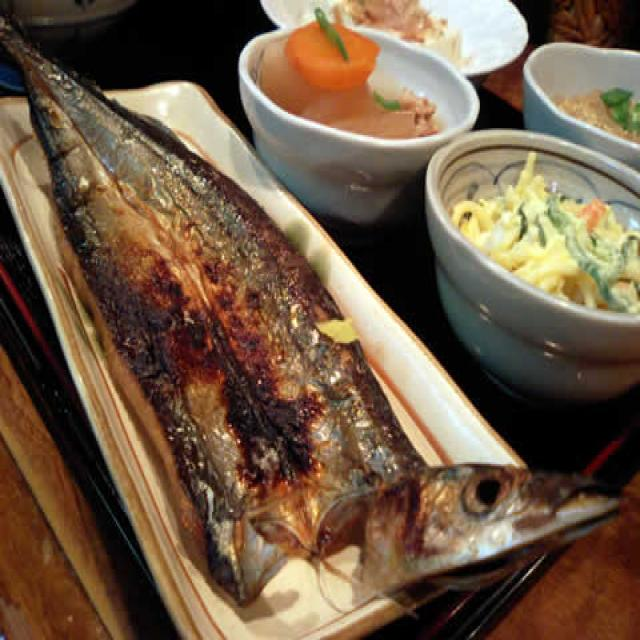熟制海鲜: (0, 0, 624, 640)
